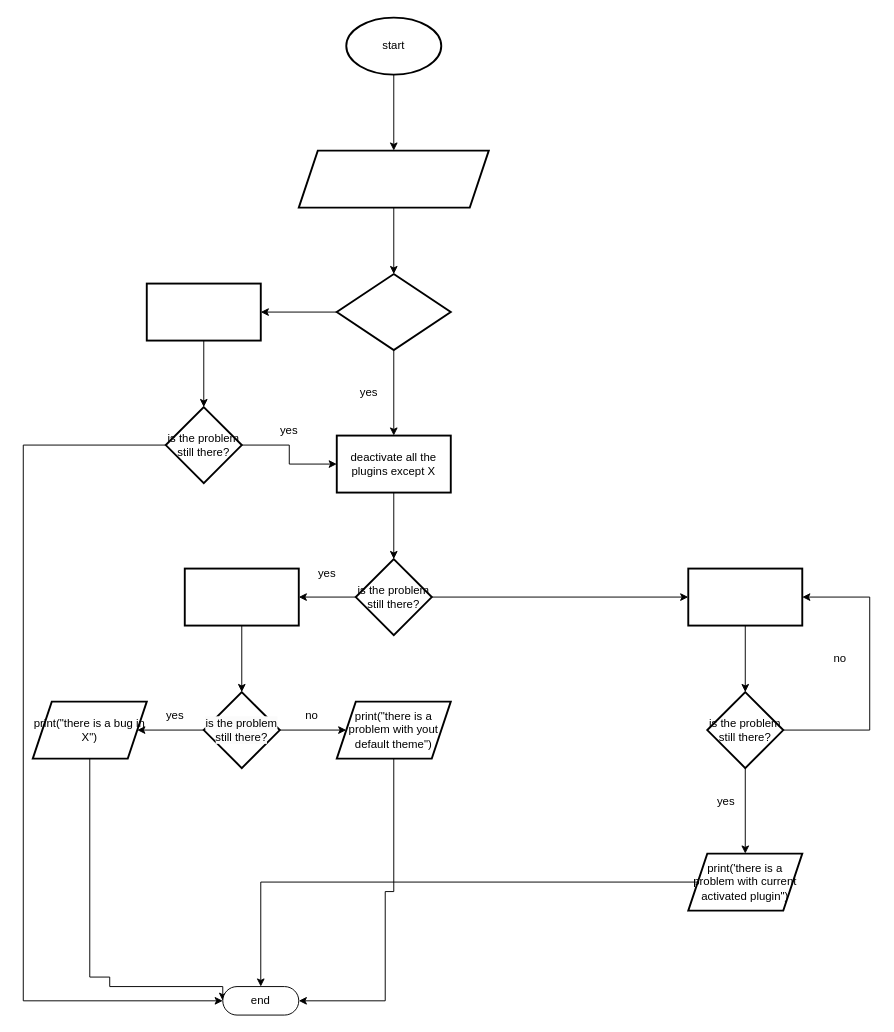
The diagram is 894 pixels wide and 1032 high, and some of its shapes have lost their labels. Here are the shapes that lost their labels. From the top down, the box of each, then its label:
(297, 149, 489, 208): Are you using latest pluging x? enter yes or no
(145, 282, 261, 341): update to the latest version of plugin X
(335, 273, 451, 351): the user respond is yes?
(183, 567, 299, 626): switch to default theme
(687, 567, 803, 626): activate one of the previous deactivated plugin one by one
